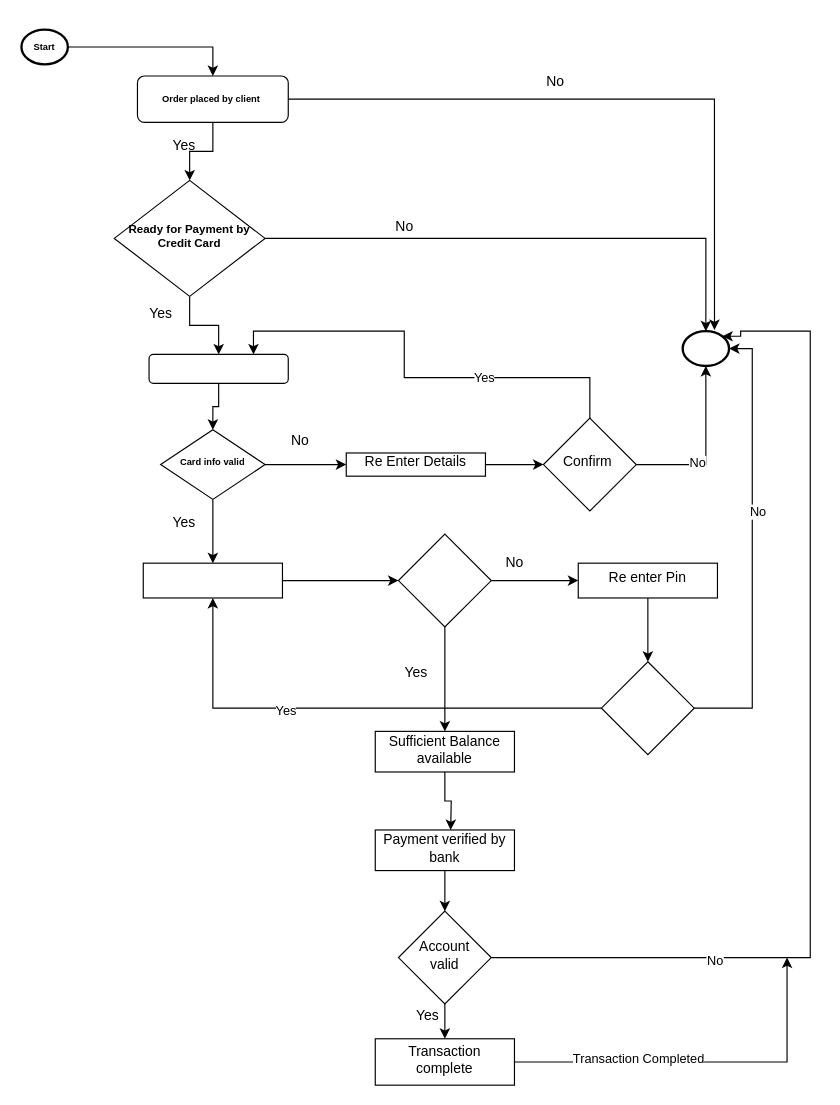
Some shapes in this 840 by 1105 pixel diagram are drawn without their labels. Here are the shapes that lost their labels. From the top down, the box of each, then its label:
(148, 353, 288, 383): Enter Card details
(681, 329, 730, 367): End
(142, 562, 282, 598): Enter Pin
(397, 533, 491, 627): Pin Valid
(600, 661, 694, 755): Confirm to Re enter
